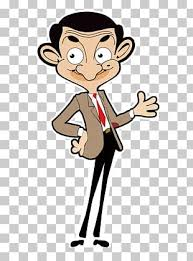mrbean: (37, 11, 161, 248)
